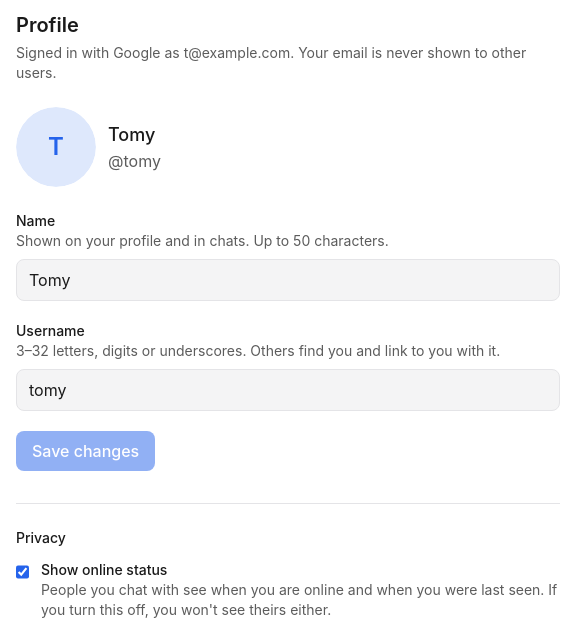
ProfileSettings › saves both fields in one request
Replace the text in the field labelled "Name" with "Rahmat" at (288,280), box [16,259,560,301]
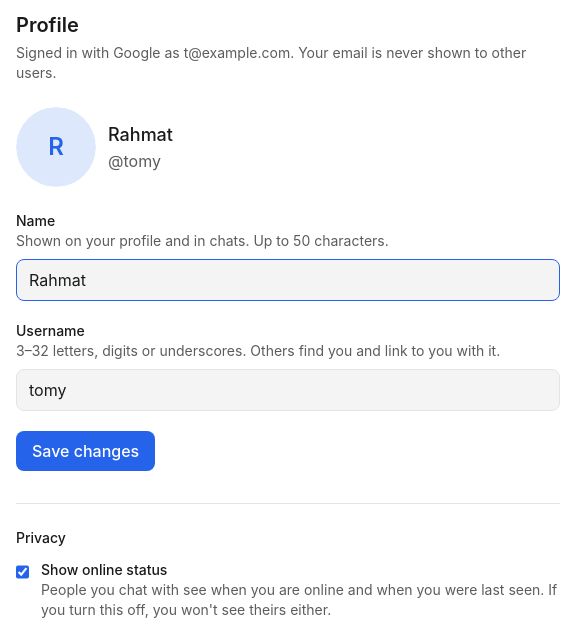
Replace the text in the field labelled "Username" with "rahmat" at (288,390), box [16,369,560,411]
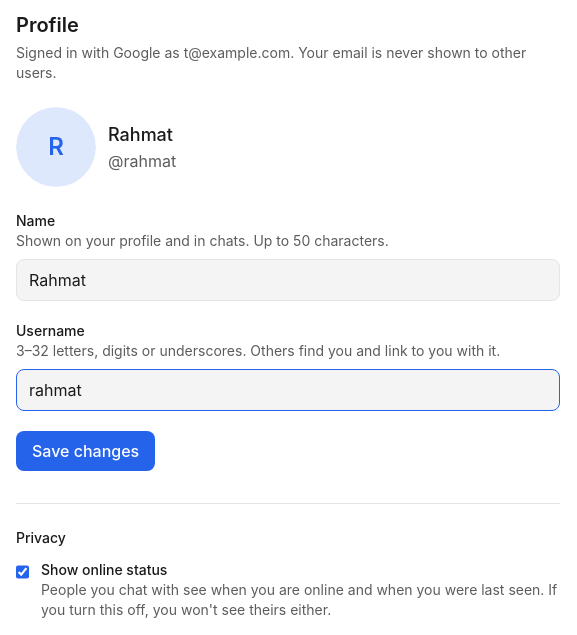
Click the button "Save changes" at (86,451), box [16,431,155,471]
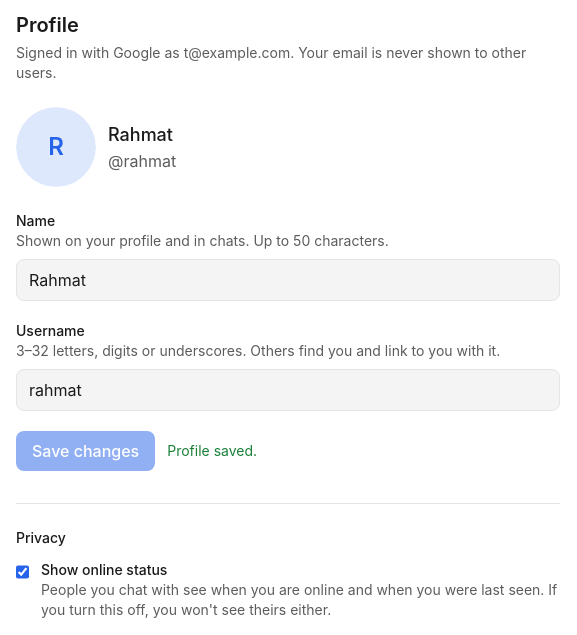
Expected: the text "Profile saved." is shown, [167,442,257,459]
